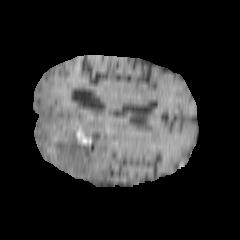glioma: (53, 114, 124, 177)
